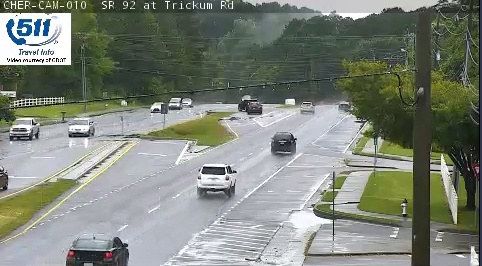car: (65, 235, 129, 266), (197, 165, 236, 192), (271, 132, 296, 153)
